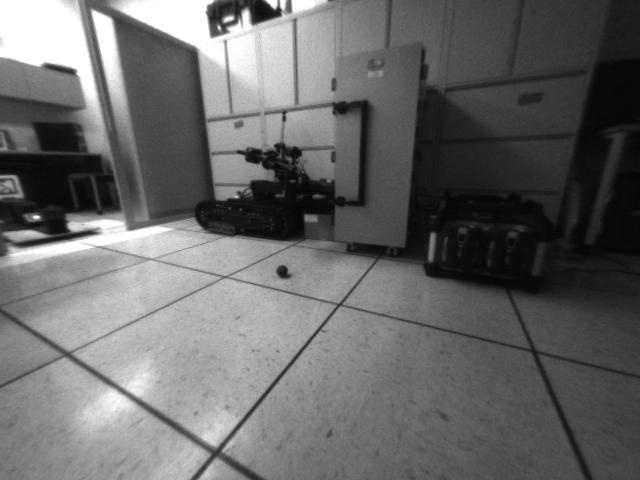dogtoy: (272, 260, 295, 283)
